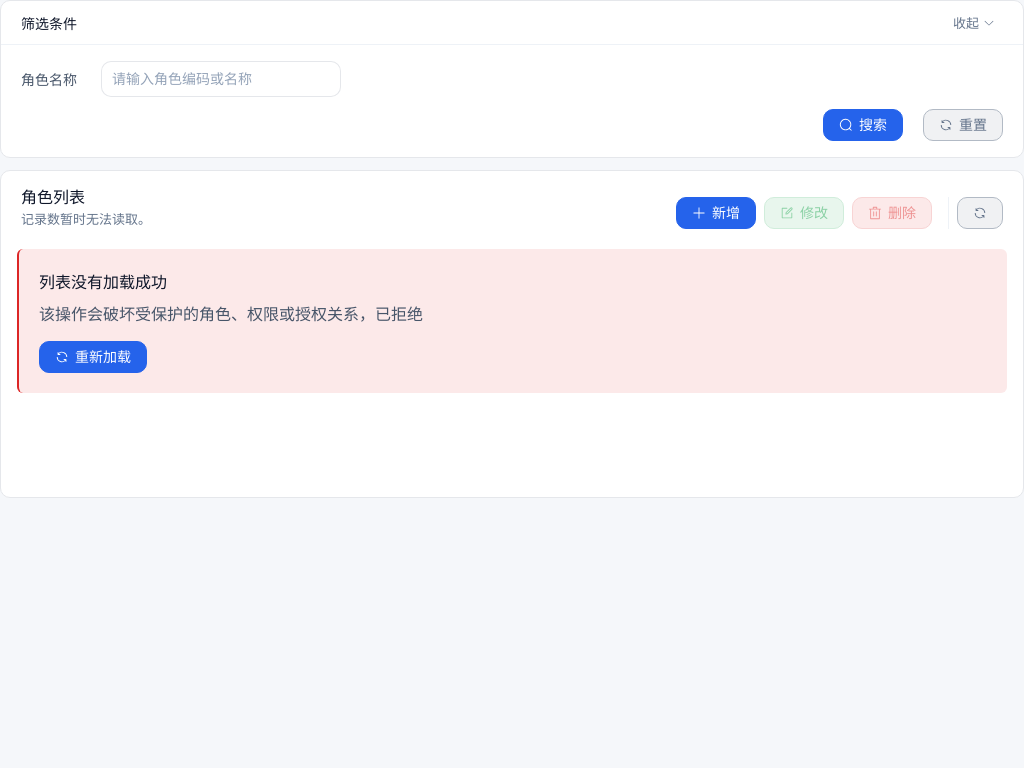
Test: RoleListView › 加载失败时给出稳定错误码文案并可重试
The image size is (1024, 768).
Check: the message "列表没有加载成功 该操作会破坏受保护的角色、权限或授权关系，已拒绝 重新加载" is shown, box x1=17 y1=249 x2=1007 y2=393
Click the button "重新加载" at (93, 357), box x1=39 y1=341 x2=147 y2=373
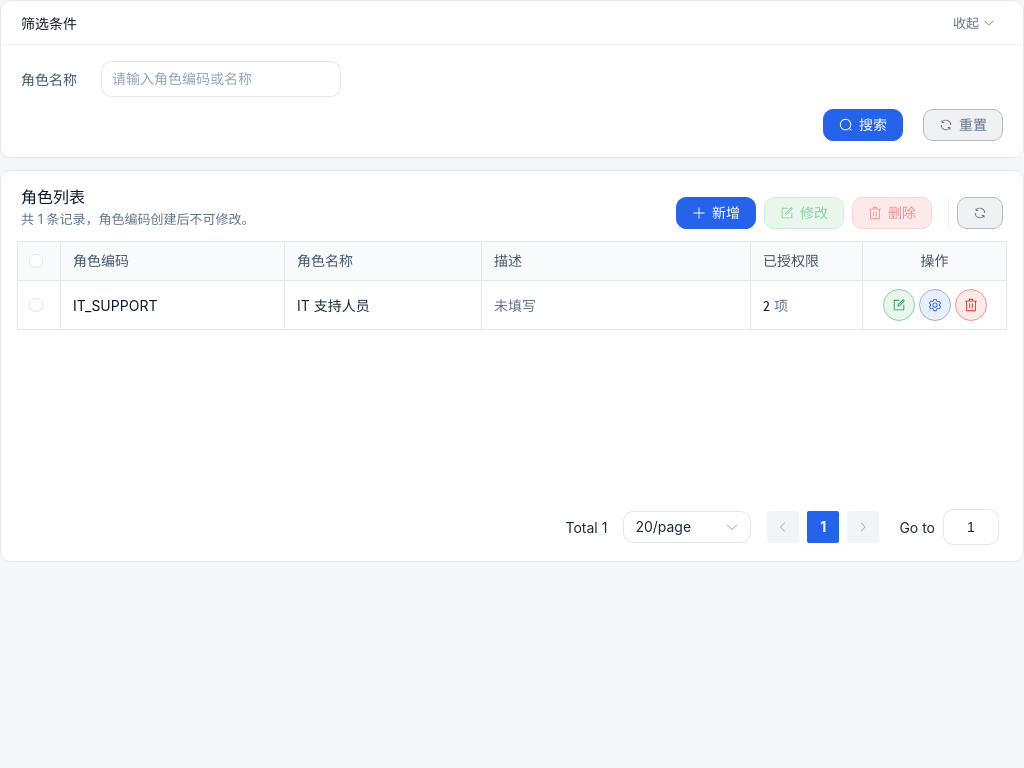
Check: the text "IT_SUPPORT" is shown, box x1=73 y1=297 x2=157 y2=314
